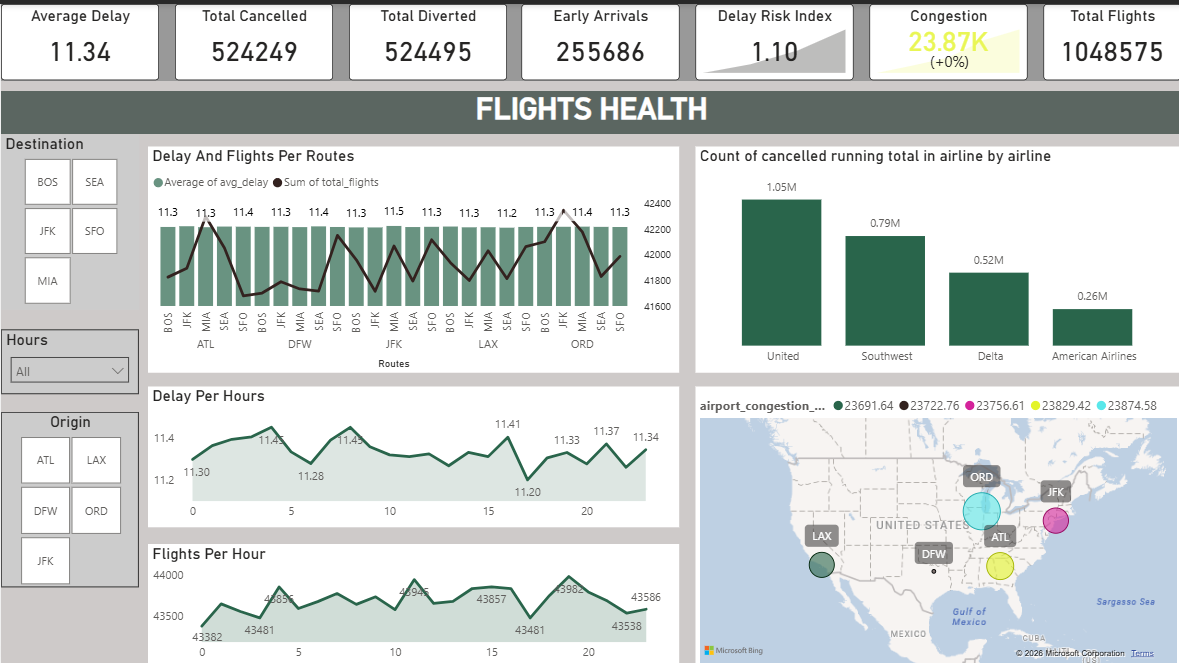

Layout of this report page (visuals, bound fields, positions):
{"tool":"powerbi","page":{"name":"Page 1","canvas":[1280,720],"ordinal":0},"visuals":[{"type":"kpi","title":"Average Delay","fields":{"Indicator":["Sum(kpi_summary.avg_delayedmin)"],"TrendLine":["kpi_summary.avg_delayedmin"]},"box":[0,0,171.2,82.8],"z":0,"group":"g1"},{"type":"map","fields":{"Category":["flights_db.origin","flights_db.destination"],"Size":["CountNonNull(flights_db.origin)"],"Series":["airport_congestion_view.airport_congestion_index"]},"box":[753.1,414.8,527,305.8],"z":0},{"type":"slicer","title":"Origin","fields":{"Values":["routes_performance.origin"]},"box":[0,442.6,149.6,190.3],"z":0,"group":"g2"},{"type":"kpi","title":"Total Cancelled","fields":{"Indicator":["Sum(kpi_summary.total_cancelled)"],"TrendLine":["kpi_summary.total_cancelled"]},"box":[188.3,0,171.2,82.8],"z":1000,"group":"g1"},{"type":"slicer","title":"Destination","fields":{"Values":["routes_performance.destination"]},"box":[0,141.3,150,190],"z":1000,"group":"g2"},{"type":"lineChart","title":"Flights Per Hour","fields":{"Category":["time_performance.hour_bucket"],"Y":["Sum(time_performance.total_flights)"]},"box":[159.4,585.6,575.8,135],"z":1000},{"type":"kpi","title":"Total Diverted","fields":{"Indicator":["Sum(kpi_summary.total_diverted)"],"TrendLine":["kpi_summary.total_diverted"]},"box":[376.6,0,171.2,82.8],"z":2000,"group":"g1"},{"type":"slicer","title":"Hours","fields":{"Values":["time_performance.hour_bucket"]},"box":[0,352,149.6,69.9],"z":2000,"group":"g2"},{"type":"lineChart","title":"Delay Per Hours","fields":{"Category":["time_performance.hour_bucket"],"Y":["Avg(time_performance.avg_delay)"]},"box":[159.4,414.8,575.8,152.9],"z":2000},{"type":"kpi","title":"Early Arrivals","fields":{"Indicator":["Sum(kpi_summary.total_early_arrivals)"],"TrendLine":["kpi_summary.total_early_arrivals"]},"box":[564.9,0,171.2,82.8],"z":3000,"group":"g1"},{"type":"lineStackedColumnComboChart","title":"Delay And Flights Per Routes","fields":{"Category":["routes_performance.origin","routes_performance.destination"],"Y":["Avg(routes_performance.avg_delay)"],"Y2":["Sum(routes_performance.total_flights)"]},"box":[159.4,154.5,575.8,245.6],"z":3000},{"type":"kpi","title":"Total Flights","fields":{"Indicator":["Sum(kpi_summary.total_flights)"],"TrendLine":["kpi_summary.total_flights"]},"box":[1129.7,0,149,82.8],"z":4000,"group":"g1"},{"type":"textbox","title":"FLIGHTS HEALTH","box":[0,94.4,1280.7,46.2],"z":4000},{"type":"kpi","title":"Delay Risk Index","fields":{"TrendLine":["delay_risk_view.delay_risk_index"],"Indicator":["Sum(delay_risk_view.delay_risk_index)"]},"box":[753.1,0,171.2,82.8],"z":5000,"group":"g1"},{"type":"columnChart","fields":{"Category":["flights_db.airline"],"Y":["flights_db.Count of cancelled running total in airline"]},"box":[753.1,154.5,527,245.6],"z":5000},{"type":"group","id":"g1","title":"kpi","box":[0,0,1278.7,82.8],"z":6000},{"type":"kpi","title":"Congestion","fields":{"Indicator":["Sum(airport_congestion_view.airport_congestion_index)"],"Goal":["Sum(airport_congestion_view.airport_congestion_index)"],"TrendLine":["airport_congestion_view.airport_congestion_index"]},"box":[941.4,0,171.2,82.8],"z":6000,"group":"g1"},{"type":"group","id":"g2","title":"slicers","box":[0,141.3,150,491.6],"z":7000}]}

Visuals, with their boxes in screenshot pixels (x1, y1, x2, y2), scaled from the page's 1280x720 canvas onto the 1179x663 screenshot:
"Average Delay" kpi: 0 0 158 76
map - flights_db.origin x flights_db.destination: 694 382 1178 662
"Origin" slicer: 0 408 138 583
"Total Cancelled" kpi: 173 0 331 76
"Destination" slicer: 0 130 138 305
"Flights Per Hour" lineChart: 147 539 677 662
"Total Diverted" kpi: 347 0 505 76
"Hours" slicer: 0 324 138 388
"Delay Per Hours" lineChart: 147 382 677 523
"Early Arrivals" kpi: 520 0 678 76
"Delay And Flights Per Routes" lineStackedColumnComboChart: 147 142 677 368
"Total Flights" kpi: 1041 0 1178 76
"FLIGHTS HEALTH" textbox: 0 87 1178 129
"Delay Risk Index" kpi: 694 0 851 76
columnChart - flights_db.airline x flights_db.Count of cancelled running total in airline: 694 142 1178 368
"kpi" group: 0 0 1178 76
"Congestion" kpi: 867 0 1025 76
"slicers" group: 0 130 138 583
